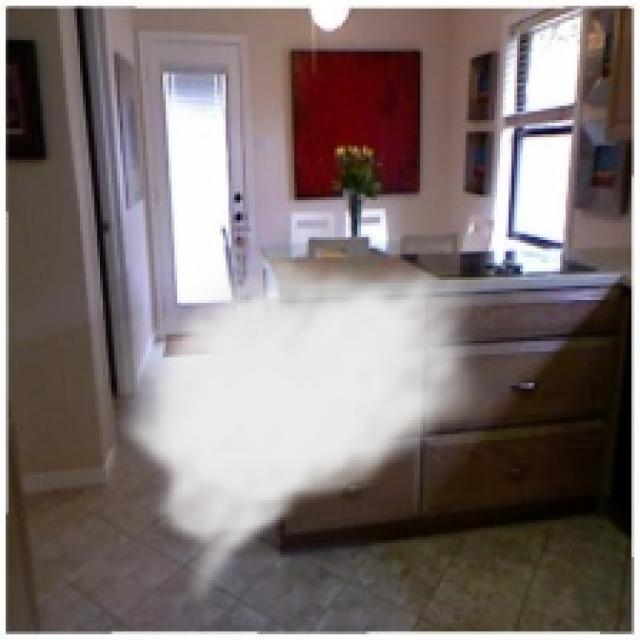smoke: (112, 248, 497, 612)
